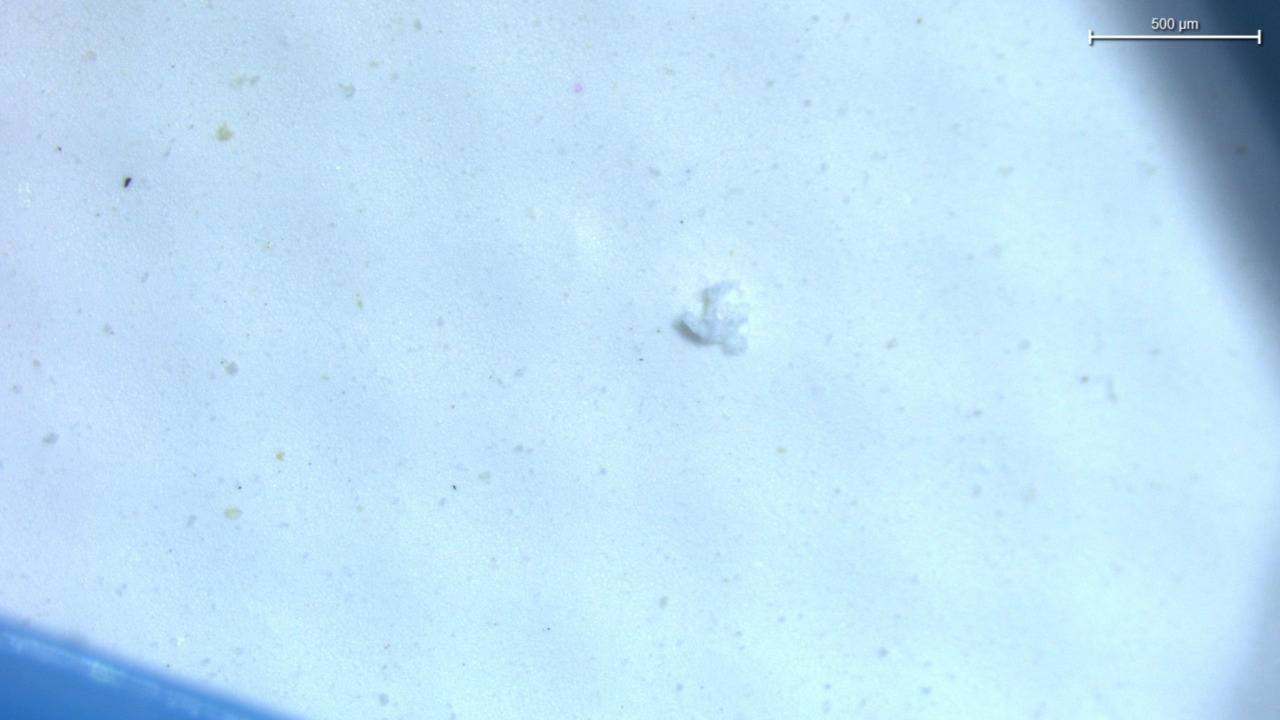microplastic_fragment: (677, 281, 748, 354)
